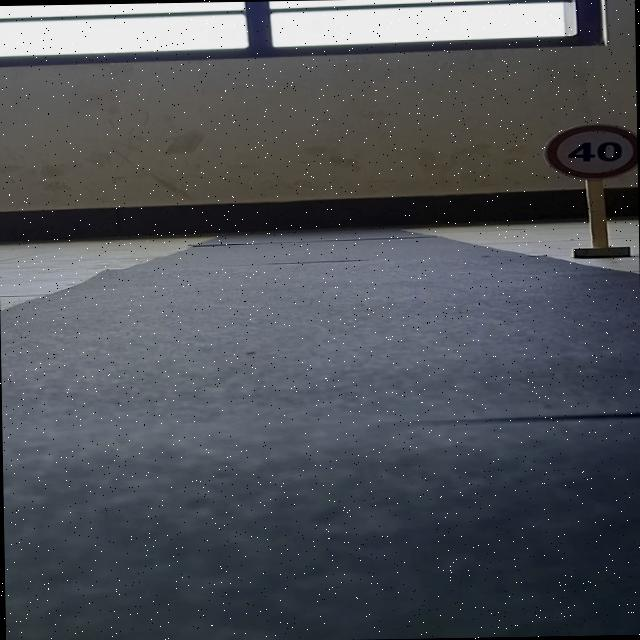Speed40: (534, 120, 638, 182)
